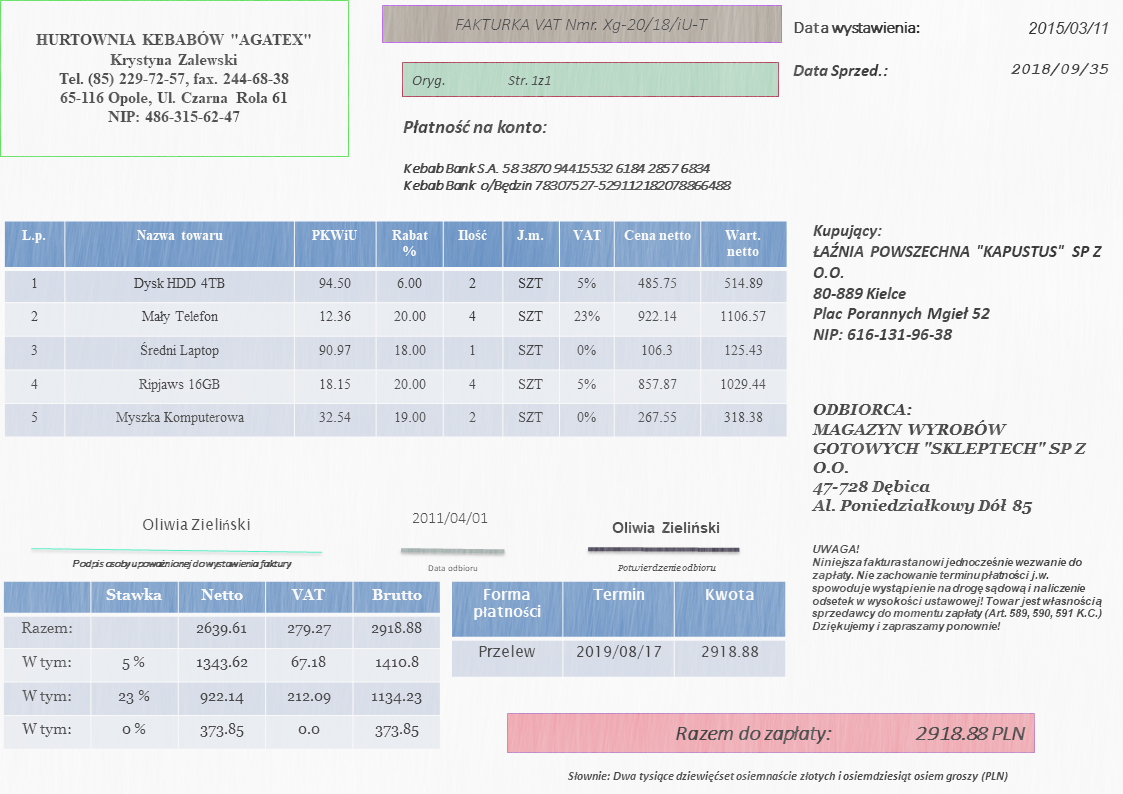Table: (2, 220, 789, 438), (2, 581, 441, 750), (450, 579, 786, 679)
TextBox: (809, 221, 1104, 345), (809, 400, 1089, 518), (31, 24, 315, 130), (810, 539, 1106, 634), (400, 158, 734, 194), (564, 764, 1011, 786), (672, 720, 1027, 745), (449, 14, 710, 34), (69, 555, 295, 573), (791, 16, 922, 41), (399, 117, 549, 138), (408, 70, 555, 90), (138, 513, 255, 534), (1007, 59, 1111, 80), (791, 60, 890, 81), (608, 518, 722, 536), (1026, 18, 1111, 37), (410, 509, 489, 528), (614, 560, 719, 574), (424, 562, 479, 573)
